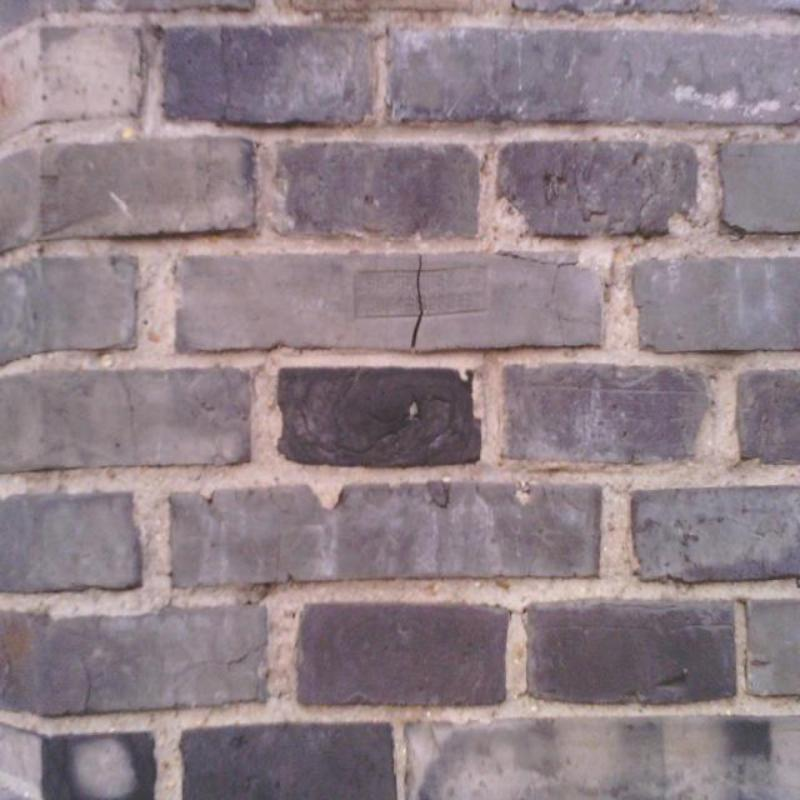pothole: (499, 251, 580, 294), (411, 255, 424, 347), (219, 30, 231, 121), (118, 372, 135, 430), (81, 658, 92, 714)
